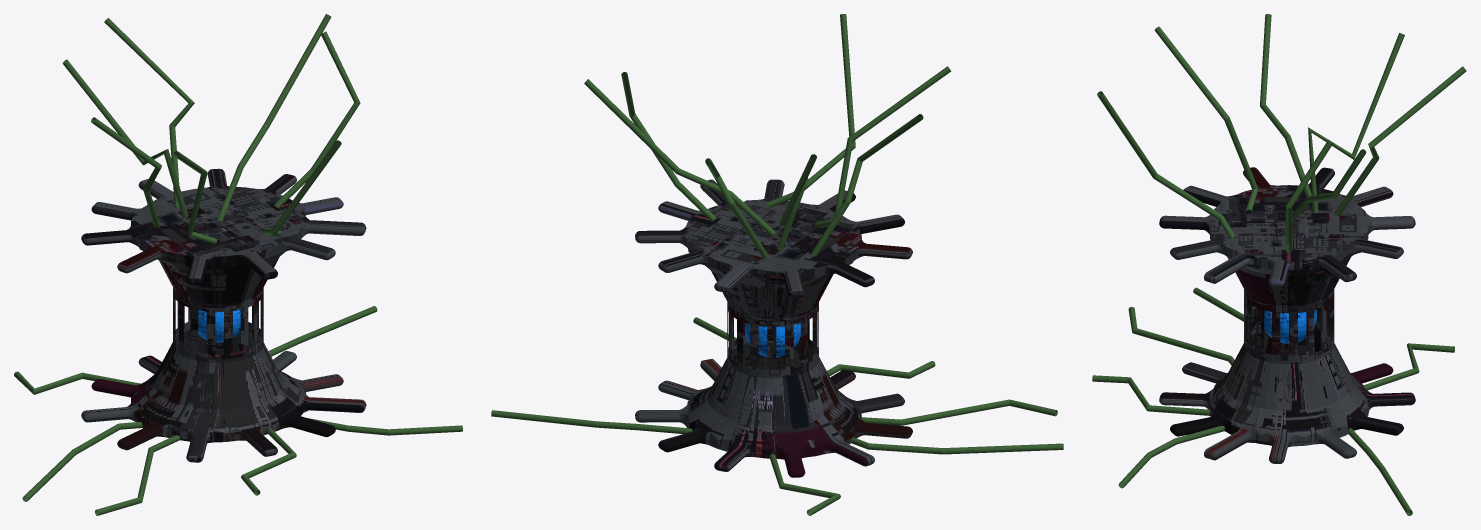
File: Reator.fbx
3 renders of one model, left to right at view 1: azimuth 30°, elevation 25°; view 2: azimuth 150°, elevation 25°; view 3: azimuth 270°, elevation 25°, orthographic.
Parts seen in each view (by area): view 1: Cylinder, Cube.002, Cube, Cube.004, Cube.006, Cube.007, Cube.005, Cube.010, Cube.001, Cube.008, Cube.003, Cube.011 (+3 smaller); view 2: Cylinder, Cube.002, Cube.007, Cube.003, Cube.011, Cube.001, Cube.008, Cube.005, Cube, Cube.006, Sphere, Cube.012 (+2 smaller); view 3: Cylinder, Cube.003, Cube.001, Cube.004, Cube.006, Cube.005, Cube.009, Cube.008, Cube, Cube.010, Cube.012, Sphere (+2 smaller).
Part boxes in pixels (left/top/right/bottom): Cylinder: left=81, top=168, right=366, bottom=462; Cube.002: left=216, top=14, right=331, bottom=221; Cube: left=274, top=31, right=360, bottom=208; Cube.004: left=104, top=18, right=194, bottom=207; Cube.006: left=62, top=59, right=188, bottom=217; Cube.007: left=22, top=422, right=142, bottom=501; Cube.005: left=91, top=117, right=161, bottom=227; Cube.010: left=307, top=418, right=462, bottom=435; Cube.001: left=262, top=140, right=341, bottom=236; Cube.008: left=95, top=435, right=180, bottom=515; Cube.003: left=173, top=151, right=216, bottom=243; Cube.011: left=268, top=306, right=377, bottom=356; Cylinder: left=635, top=179, right=912, bottom=477; Cube.002: left=584, top=79, right=775, bottom=235; Cube.007: left=850, top=437, right=1063, bottom=454; Cube.003: left=814, top=66, right=951, bottom=227; Cube.011: left=491, top=410, right=692, bottom=433; Cube.001: left=766, top=14, right=855, bottom=207; Cube.008: left=861, top=399, right=1057, bottom=425; Cube.005: left=811, top=114, right=923, bottom=256; Cube: left=621, top=72, right=716, bottom=221; Cube.006: left=776, top=154, right=816, bottom=250; Sphere: left=745, top=323, right=800, bottom=357; Cube.012: left=769, top=453, right=840, bottom=515; Cylinder: left=1159, top=167, right=1415, bottom=463; Cube.003: left=1154, top=26, right=1258, bottom=211; Cube.001: left=1097, top=91, right=1236, bottom=239; Cube.004: left=1334, top=66, right=1466, bottom=216; Cube.006: left=1308, top=33, right=1404, bottom=213; Cube.005: left=1260, top=14, right=1311, bottom=197; Cube.009: left=1092, top=375, right=1209, bottom=415; Cube.008: left=1128, top=307, right=1234, bottom=365; Cube: left=1286, top=140, right=1333, bottom=253; Cube.010: left=1118, top=425, right=1224, bottom=488; Cube.012: left=1363, top=343, right=1454, bottom=390; Sphere: left=1264, top=310, right=1316, bottom=343.
Size of the model in its own units: 1169 by 810 by 827.
3 materials, 3 textured.
